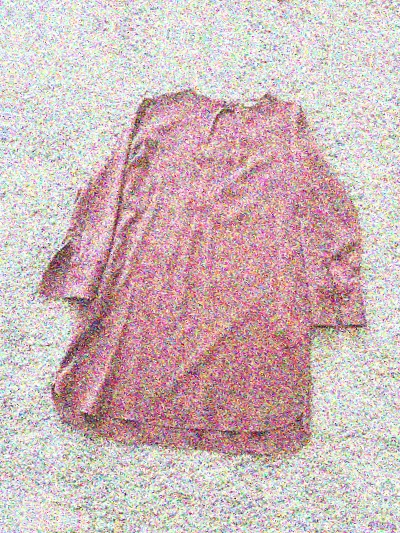Dress: (0, 40, 400, 483), (40, 0, 400, 42)
